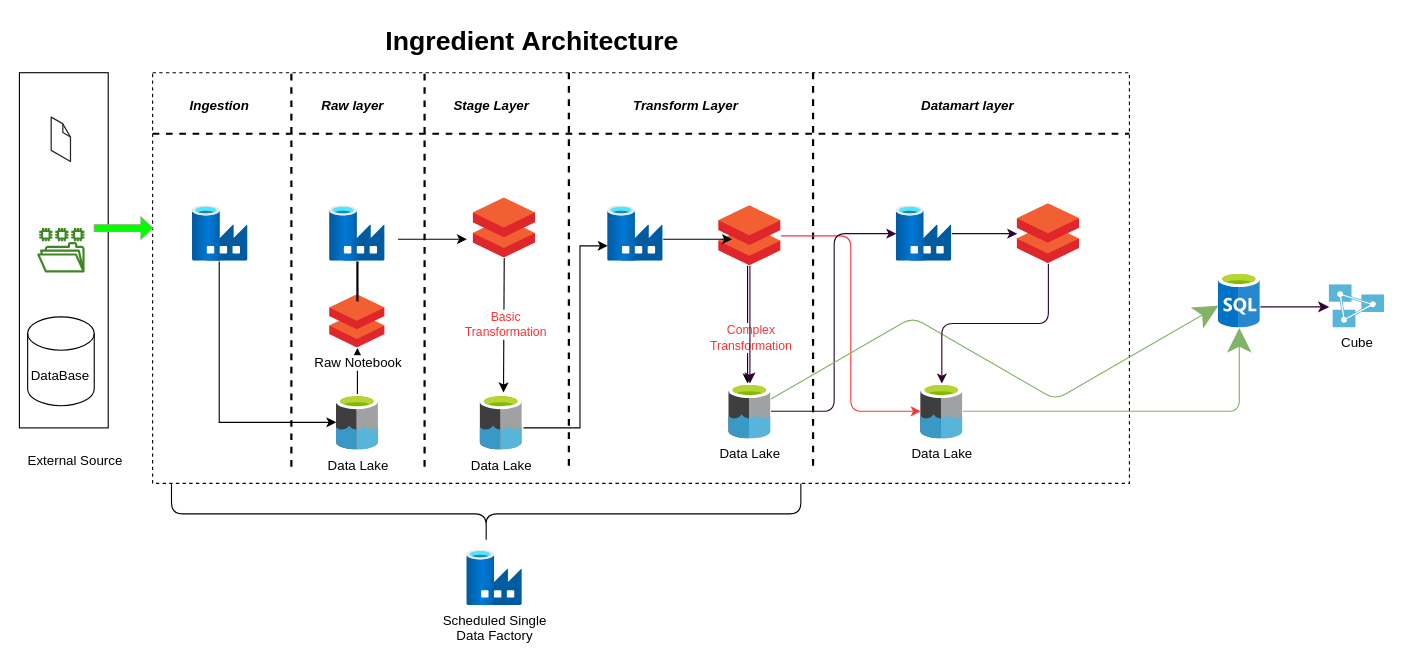
Image size: 1404x664. Some labels were removed from this diagram. Each missing label, with the centre of its shape:
Datamart Notebook: the point at 1048,233
Stage Notebook: the point at 504,228
Text Files: the point at 60,139
Transform Notebook: the point at 749,235
